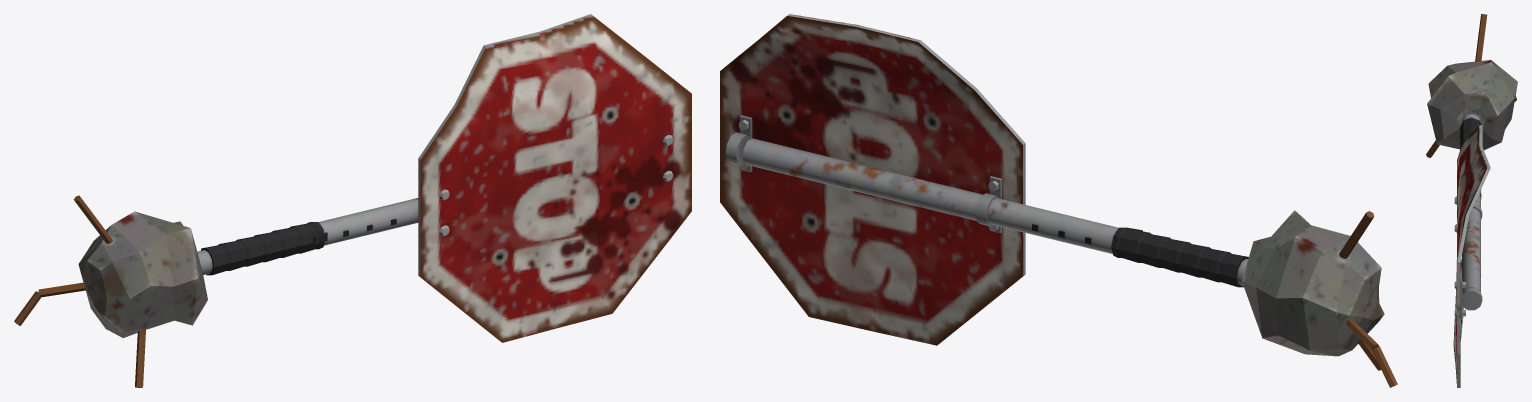
The model's file is AC_PareDefinitivo.fbx.
The picture shows the model from 3 angles, left to right: view 1: azimuth 30°, elevation 25°; view 2: azimuth 150°, elevation 25°; view 3: azimuth 270°, elevation 25°; orthographic projection. The views are drawn at different scales.
Parts seen in each view (by area): view 1: AC_PareDefinitivo; view 2: AC_PareDefinitivo; view 3: AC_PareDefinitivo.
Boxes of the visible parts, x1,y1,x2,y2 form: AC_PareDefinitivo: (14, 14, 691, 387); AC_PareDefinitivo: (720, 14, 1397, 387); AC_PareDefinitivo: (1426, 14, 1517, 387).
Bounding box in the file's own units: 1.35 × 0.57 × 0.216.
1 material, 1 textured.
